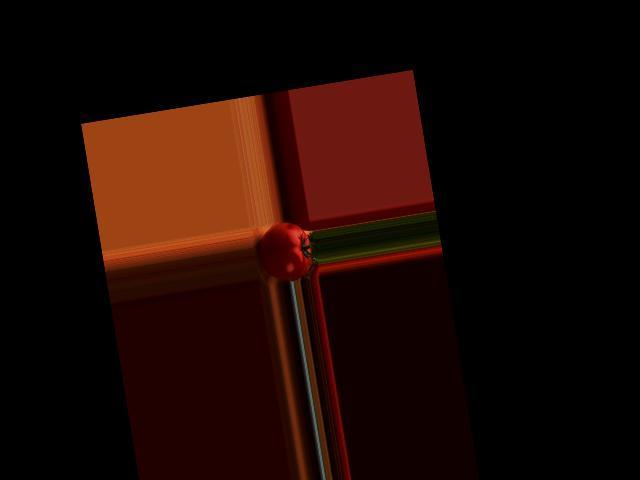tomato: (255, 218, 315, 285)
